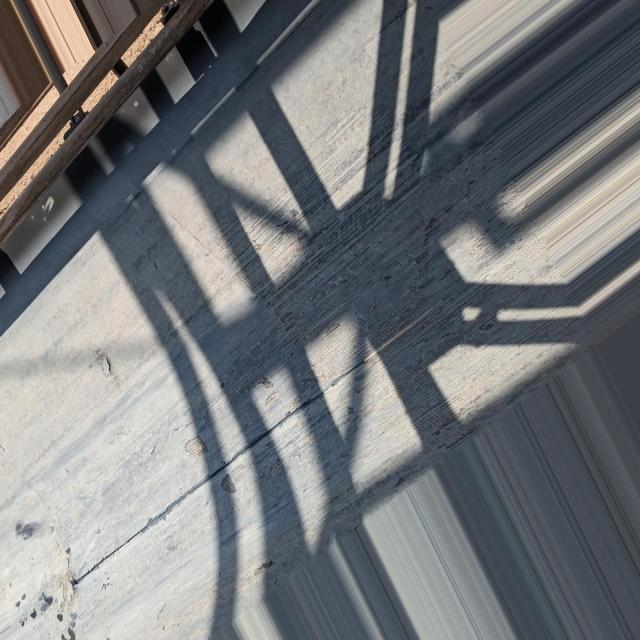Tear: (80, 371, 333, 586), (96, 346, 120, 383), (184, 433, 208, 461)
patch work: (53, 567, 79, 615)
